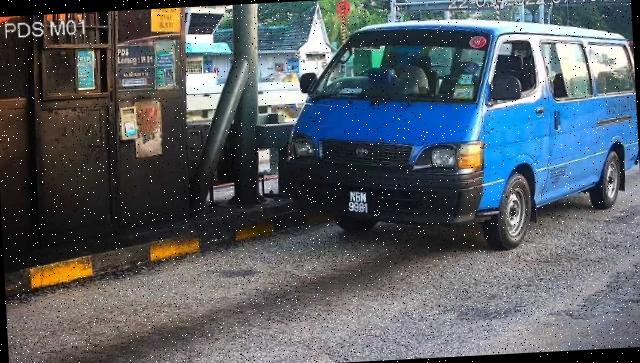License_Plate: (343, 186, 377, 221)
van: (281, 9, 640, 263)
